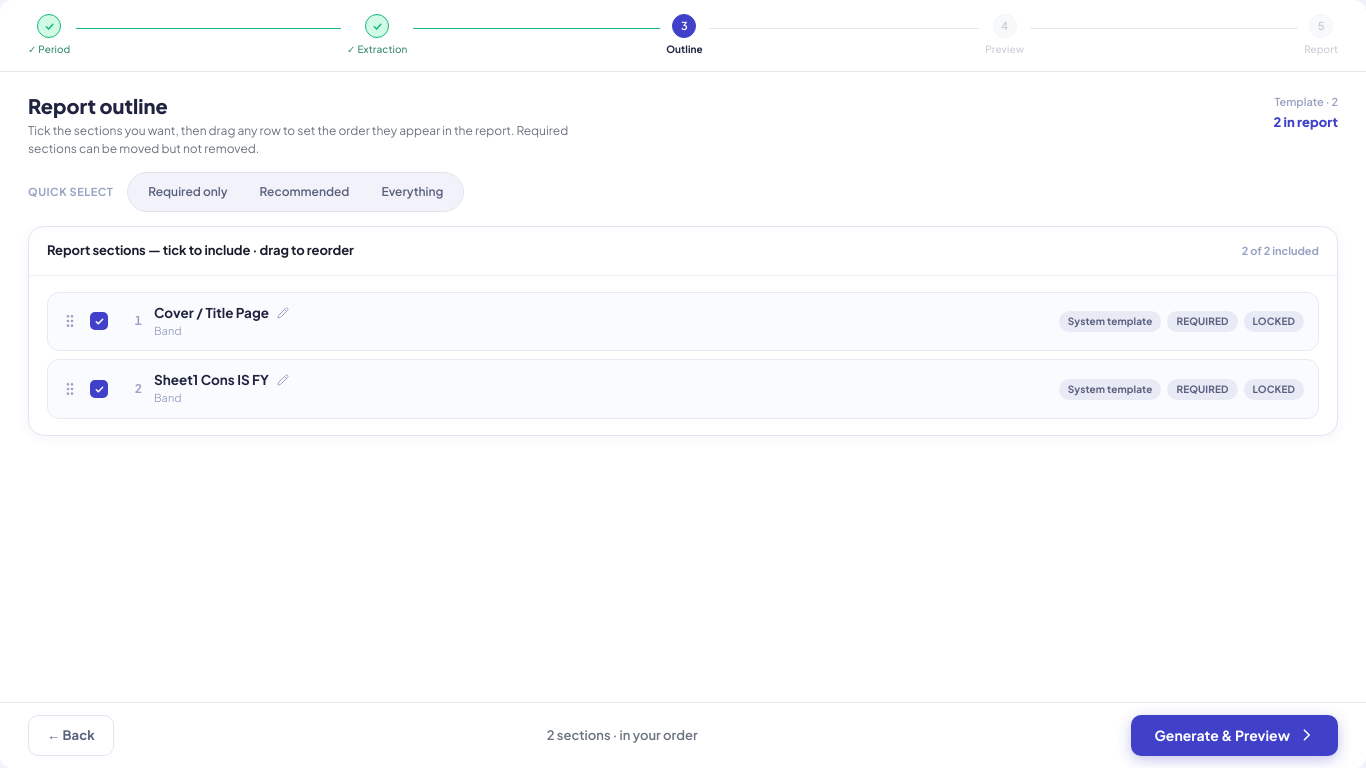
Test: renaming a section on the outline › saves the typed name on Enter
Check: the text "Cover / Title Page" is shown, box 154,304 -> 269,322
Click the button named "Rename Sheet1 Cons IS FY".
click(283, 380)  # box 275,372 -> 291,388
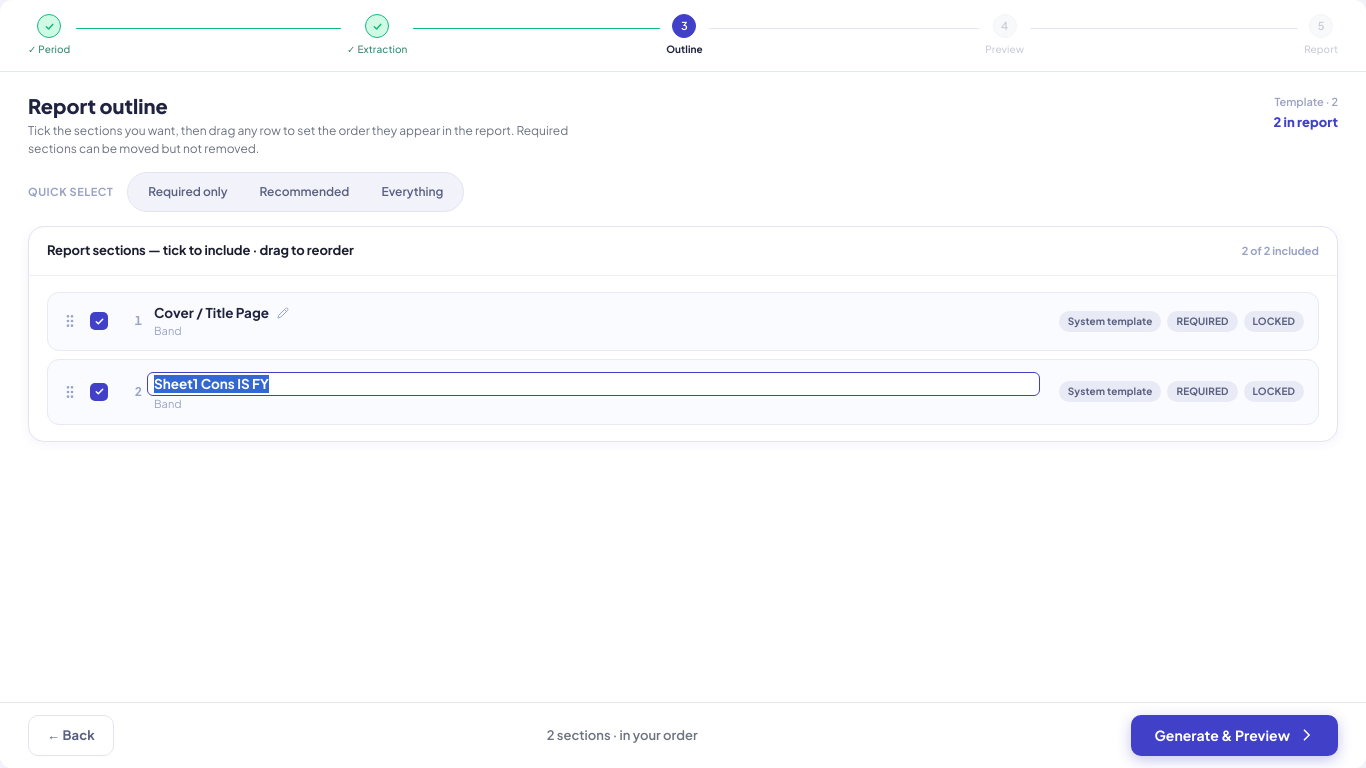
Replace the text in the field named "Section name for" with "Consolidated Income Statement" at (593, 384), box 147,372 -> 1040,396
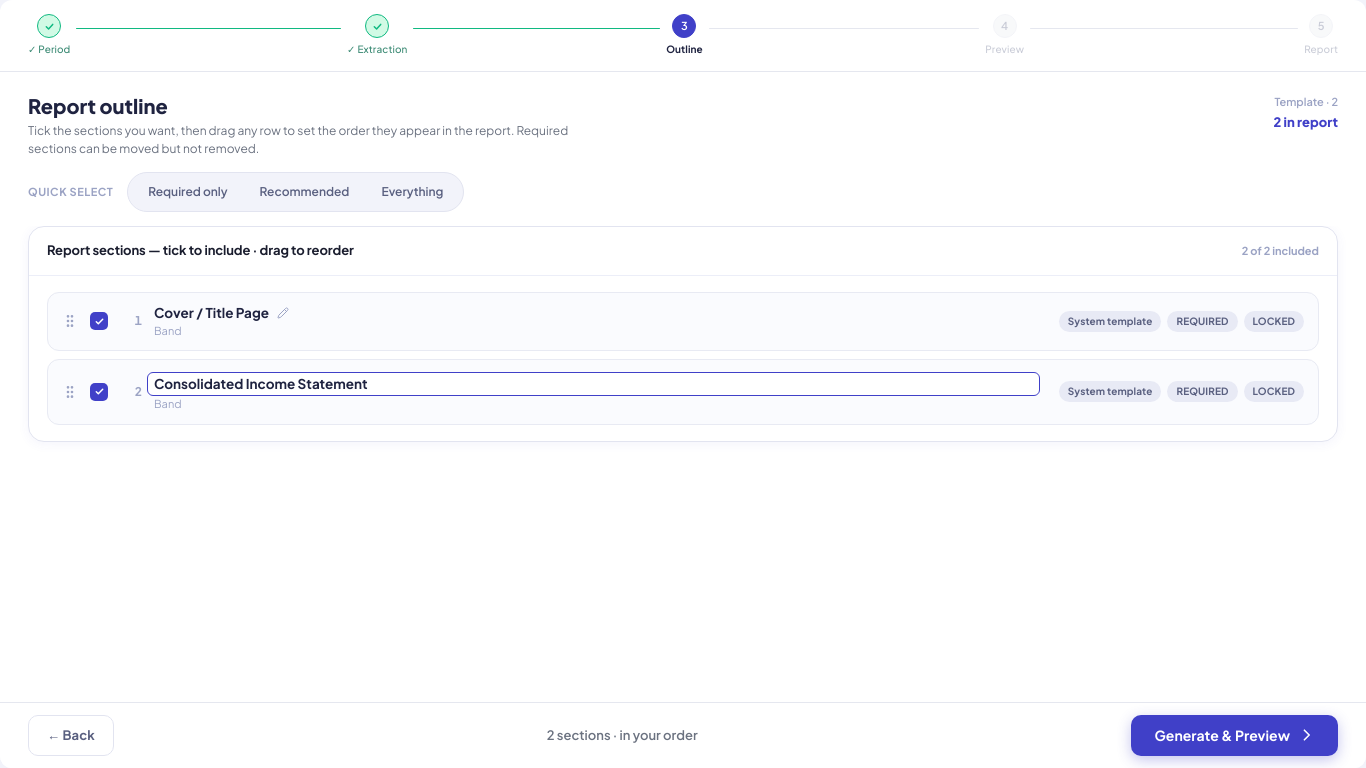
Press Enter in the field named "Section name for", box 147,372 -> 1040,396
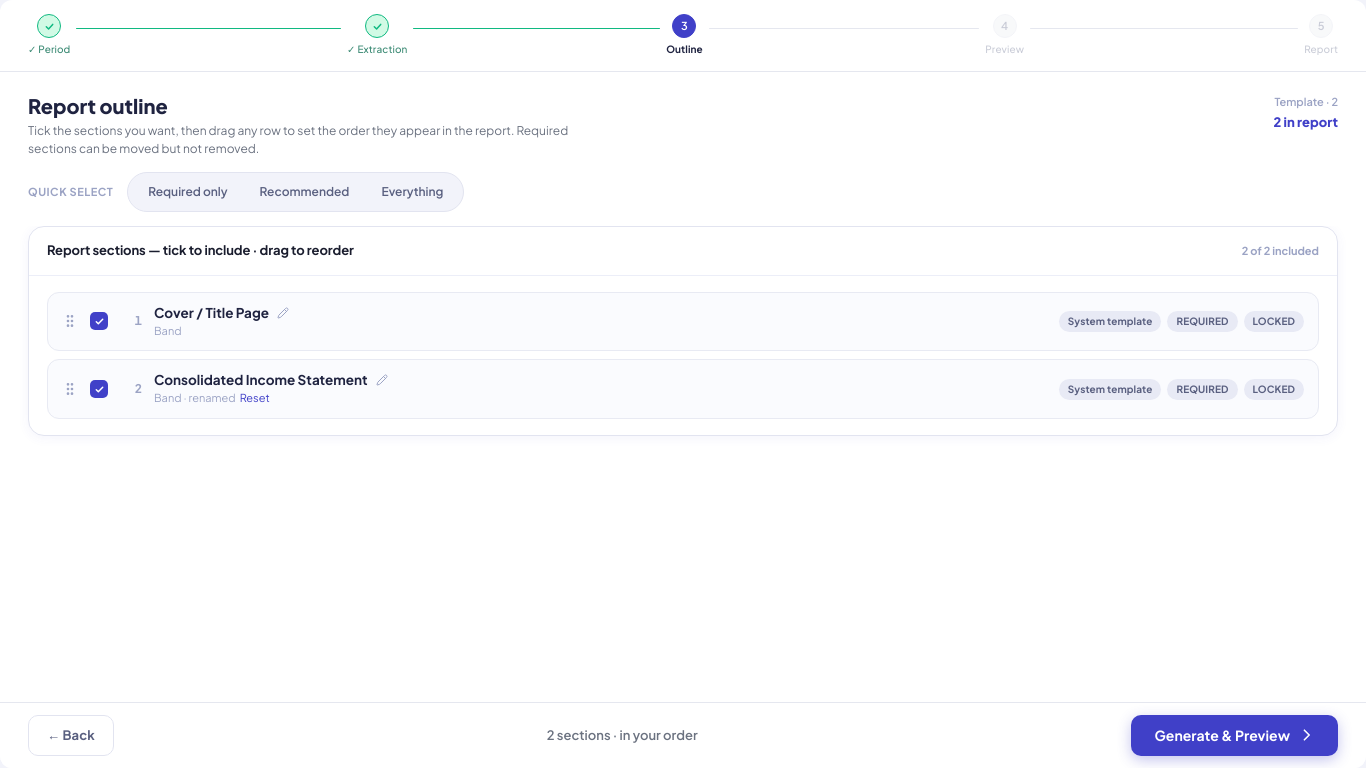
Check: the text "Consolidated Income Statement" is shown, box 154,371 -> 368,389
